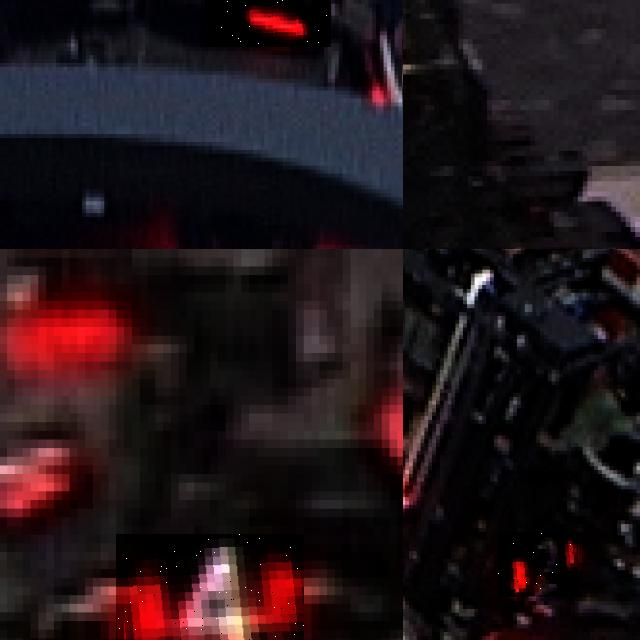R1: (520, 216, 630, 249)
R2: (498, 532, 578, 597)
R4: (116, 534, 303, 640), (204, 0, 331, 47)
